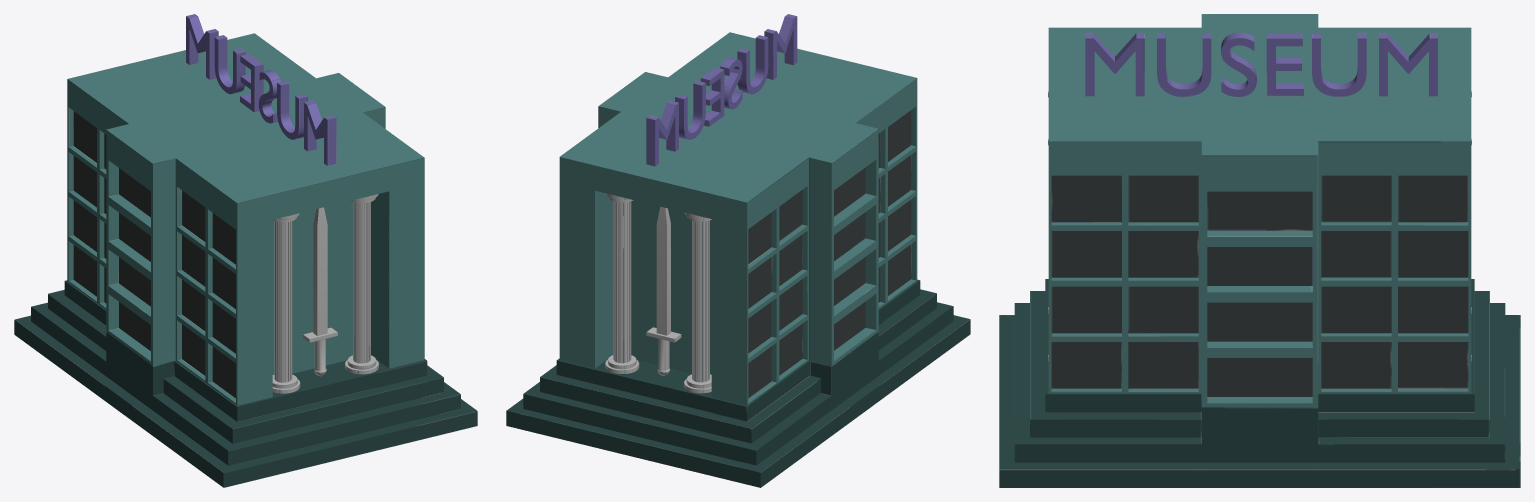
The model's file is 박물관.fbx.
3 views of the same model, side by side, from view 1: azimuth 30°, elevation 25°; view 2: azimuth 150°, elevation 25°; view 3: azimuth 270°, elevation 25° (orthographic). The views are drawn at different scales.
Visible parts, largest first — view 1: Museum; view 2: Museum; view 3: Museum.
Part boxes in pixels (bbox=[...]): Museum: bbox=[14, 14, 477, 487]; Museum: bbox=[506, 14, 970, 487]; Museum: bbox=[999, 14, 1520, 487].
Bounding box in the file's own units: 175 × 204 × 250.
Materials: 1 (1 with a texture image).
